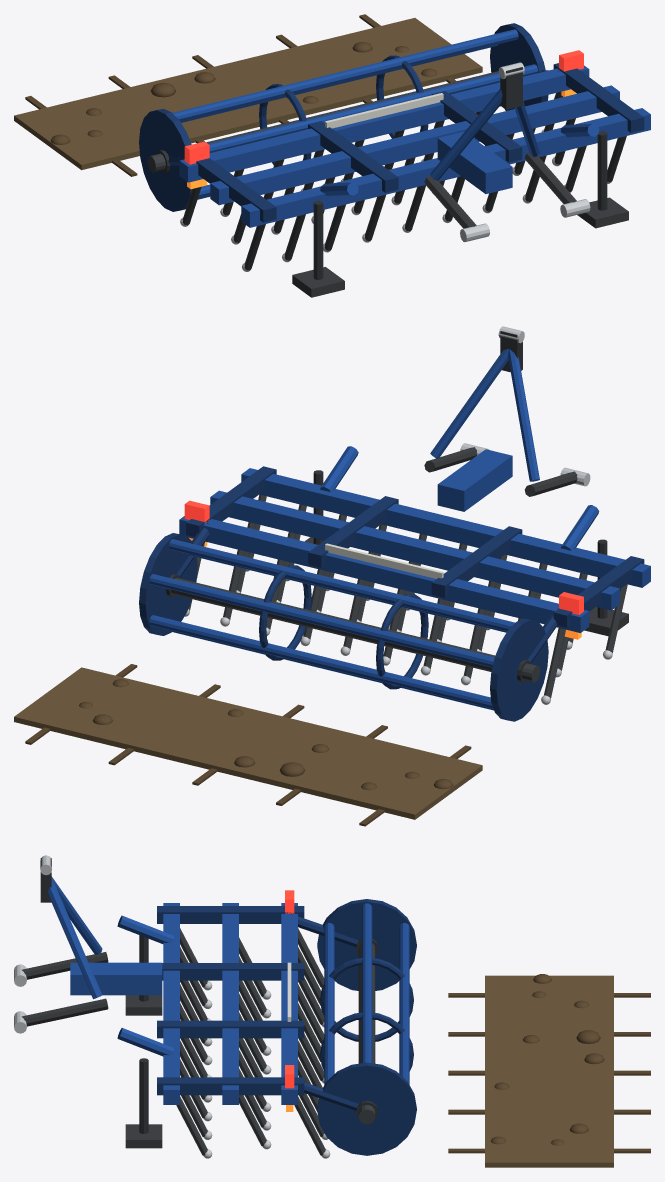
The model's file is spike_harrow.glb.
3 renders of one model, top to bottom at view 1: azimuth 30°, elevation 25°; view 2: azimuth 150°, elevation 25°; view 3: azimuth 270°, elevation 25°, orthographic. The views are drawn at different scales.
Parts seen in each view (by area): view 1: SpikeBody, SpikeProps, SpikeRoller; view 2: SpikeBody, SpikeProps, SpikeRoller; view 3: SpikeBody, SpikeProps, SpikeRoller.
Part boxes in pixels (bbox=[...]): SpikeBody: bbox=[156, 50, 650, 297]; SpikeProps: bbox=[14, 14, 482, 176]; SpikeRoller: bbox=[139, 23, 548, 211]; SpikeBody: bbox=[166, 326, 650, 704]; SpikeProps: bbox=[14, 664, 482, 826]; SpikeRoller: bbox=[139, 533, 548, 721]; SpikeBody: bbox=[14, 855, 377, 1158]; SpikeProps: bbox=[448, 974, 650, 1167]; SpikeRoller: bbox=[317, 899, 416, 1155].
Size of the model in its own units: 2.4 by 1.28 by 3.46.
